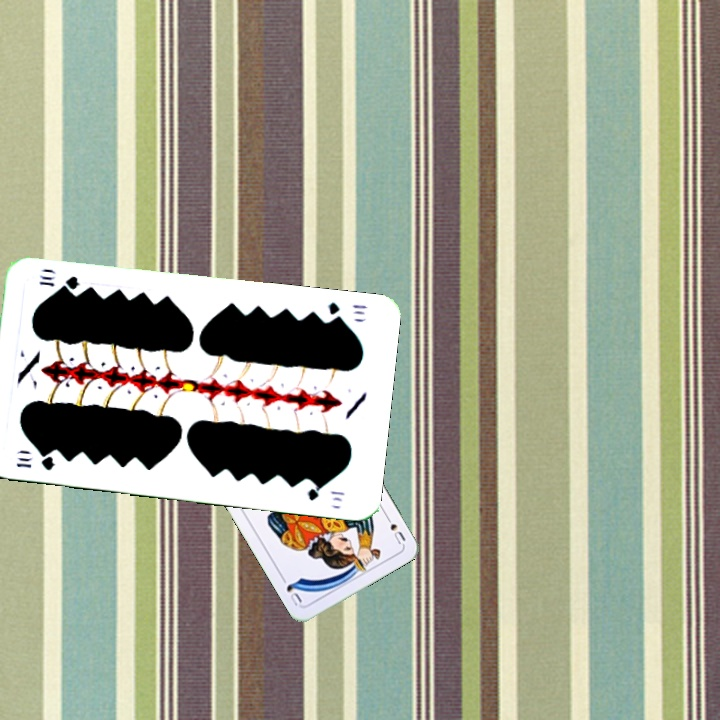G10: (324, 298, 370, 324), (12, 452, 57, 473)
SU: (380, 510, 408, 547)
